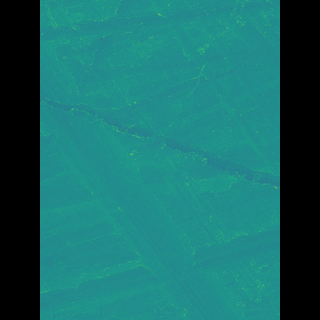Loch: (70, 37, 222, 319), (69, 92, 251, 197), (152, 0, 249, 173), (69, 0, 249, 43)
